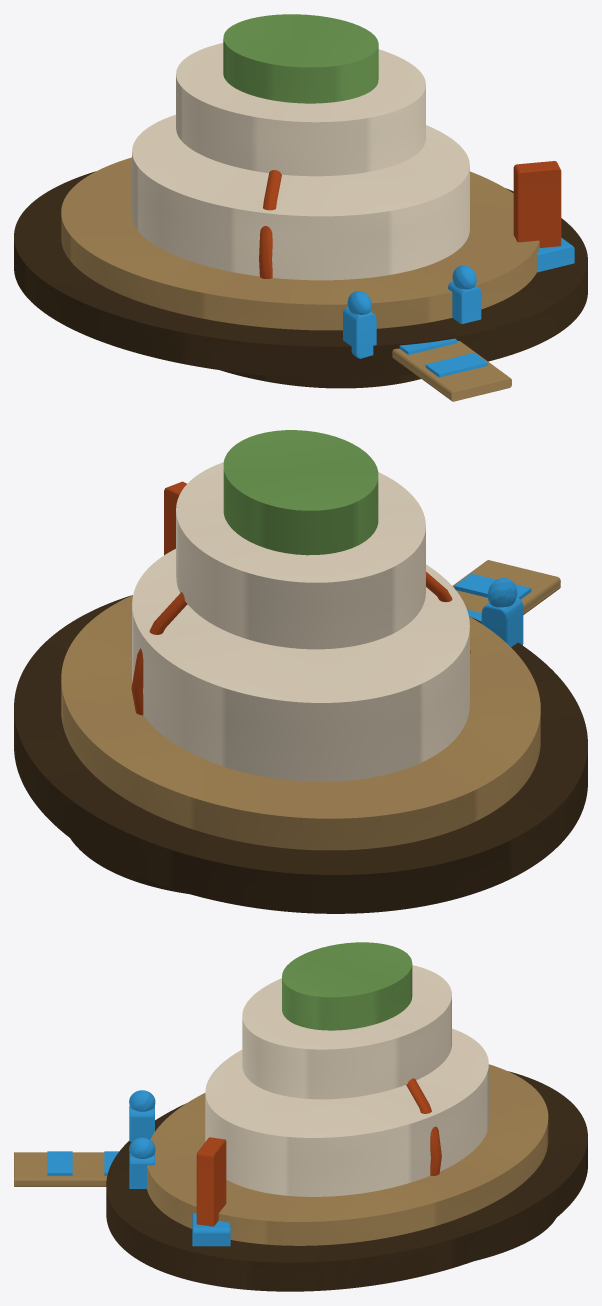
Rendered from 0864_生活中的数学图鉴_圜丘.glb.
The picture shows the model from 3 angles, top to bottom: view 1: azimuth 30°, elevation 25°; view 2: azimuth 150°, elevation 25°; view 3: azimuth 270°, elevation 25°; orthographic projection. The views are drawn at different scales.
Parts seen in each view (by area): view 1: card_0864; view 2: card_0864; view 3: card_0864.
Boxes of the visible parts, x1,y1,x2,y2 form: card_0864: [14, 14, 587, 401]; card_0864: [14, 430, 587, 913]; card_0864: [14, 942, 587, 1291].
Size of the model in its own units: 1.78 by 1 by 2.13.
